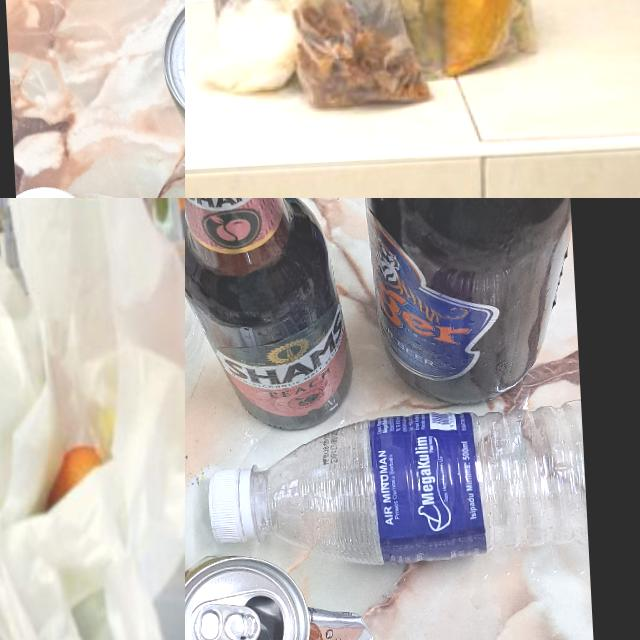aba de lata: (192, 605, 262, 640)
garrafa de vidro: (356, 198, 581, 413), (185, 198, 358, 439)
garrafa plástica: (253, 402, 590, 572)
lata: (185, 546, 384, 640)
sacola plástica: (0, 198, 185, 640), (0, 198, 66, 640), (279, 0, 427, 148), (356, 0, 586, 92), (434, 0, 536, 140), (196, 0, 295, 144)
tampa plástica: (208, 466, 254, 546)
